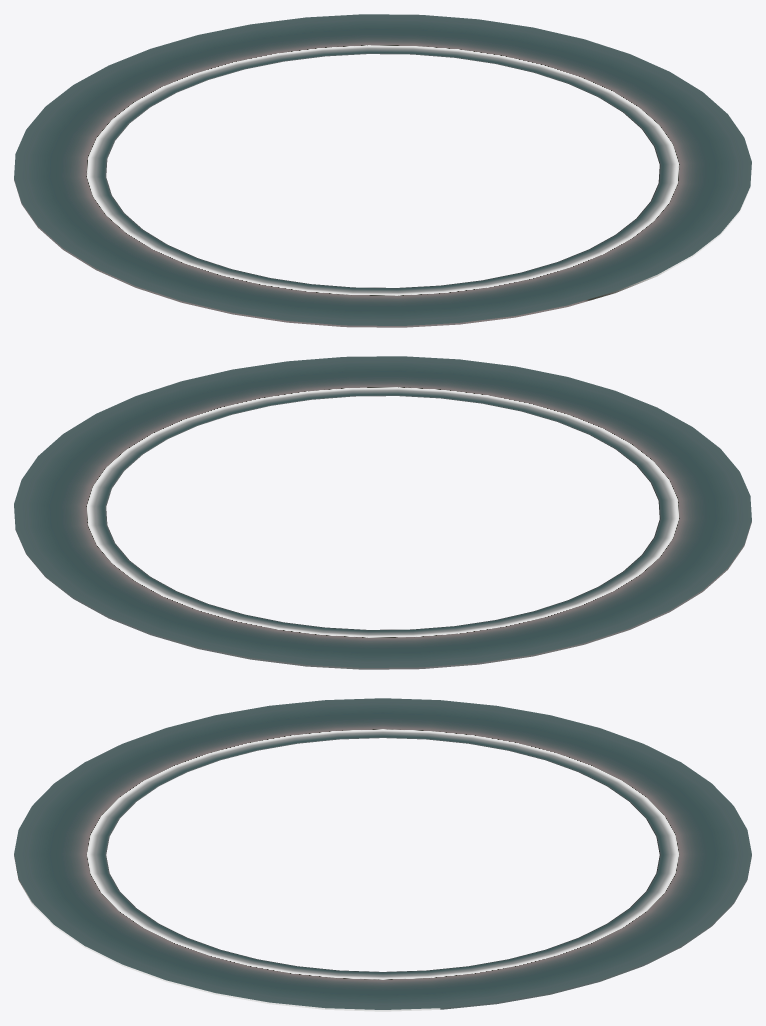
Rendered from NeptuneRing.obj.
The picture shows the model from 3 angles, top to bottom: view 1: azimuth 30°, elevation 25°; view 2: azimuth 150°, elevation 25°; view 3: azimuth 270°, elevation 25°; orthographic projection.
Visible parts, largest first — view 1: pTorus1; view 2: pTorus1; view 3: pTorus1.
Part boxes in pixels (x1,y1,x2,y2): pTorus1: (14,14,751,327); pTorus1: (14,356,751,669); pTorus1: (14,698,751,1011).
Size of the model in its own units: 40 by 0.1 by 40.
1 material, 1 textured.
